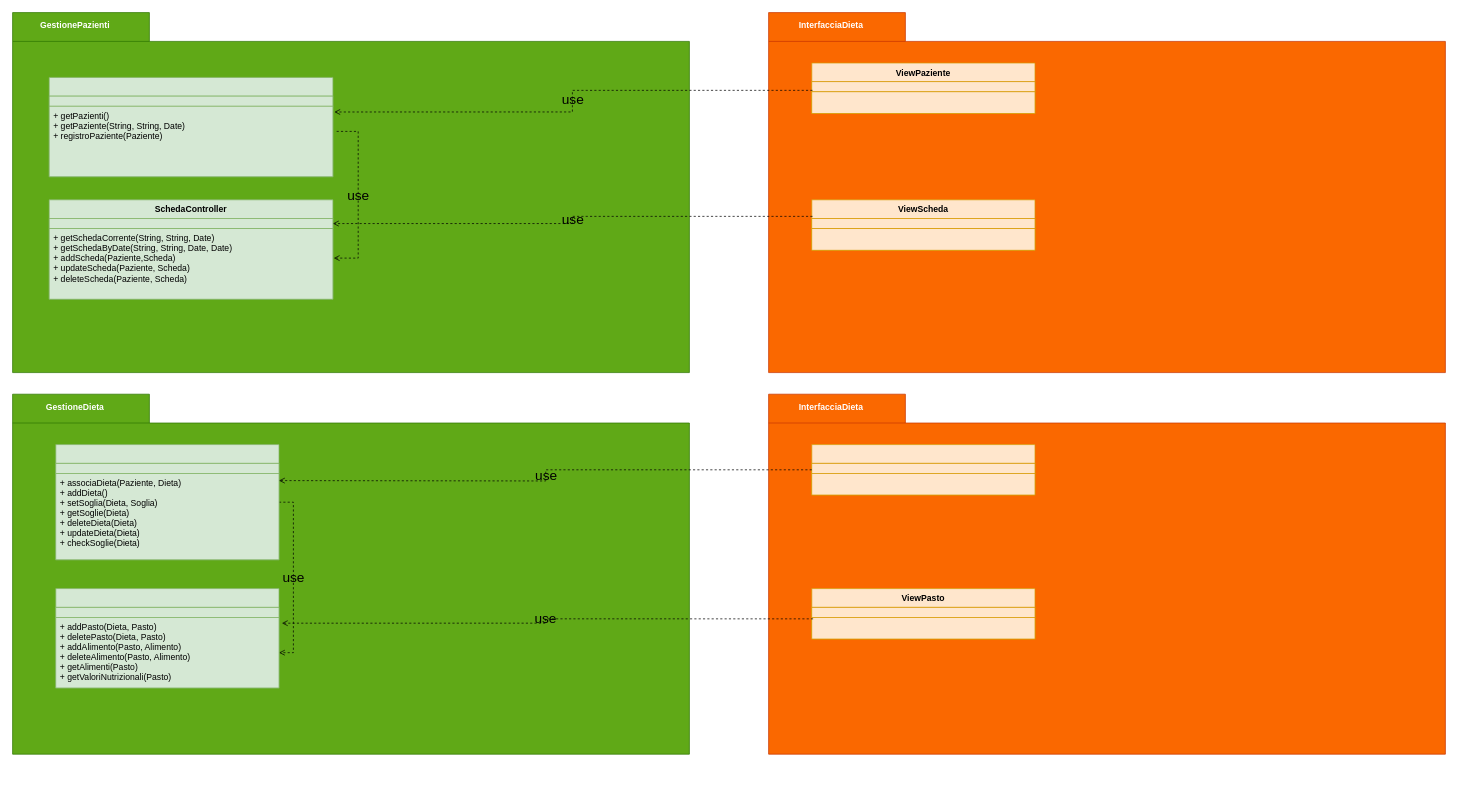
Image size: 1458x810. Some labels were removed from this diagram. Each missing label, with the box of its shape:
DietaController: (55, 444, 279, 560)
PastoController: (55, 588, 279, 688)
PazientiController: (48, 77, 333, 177)
ViewDieta: (811, 444, 1035, 495)
